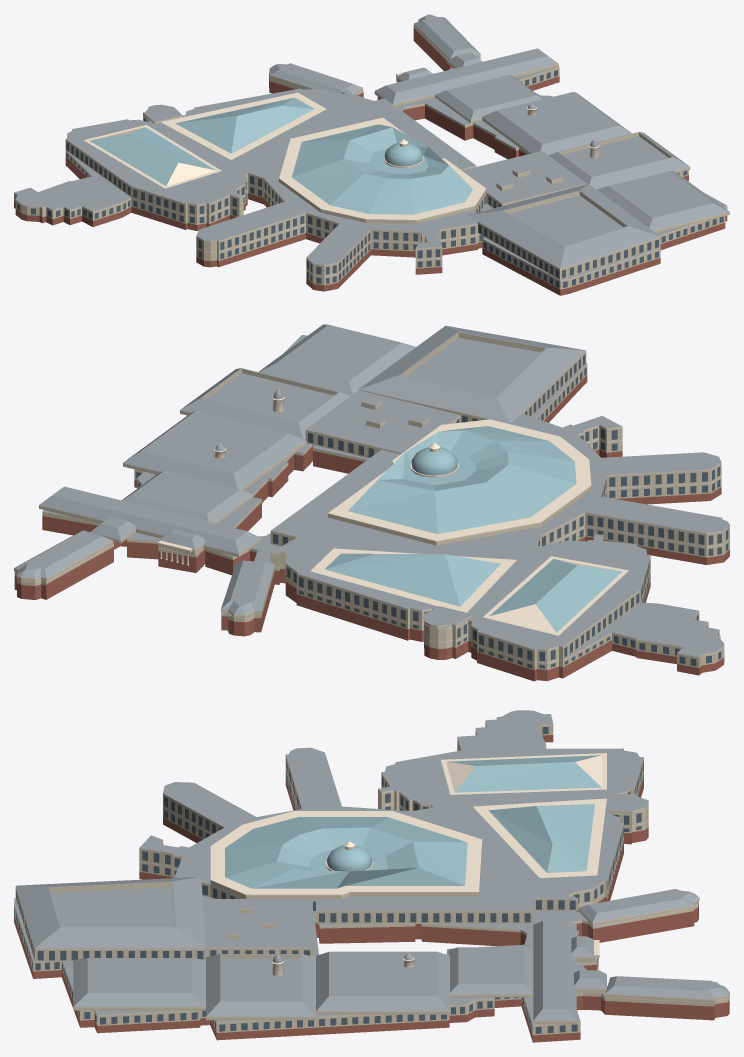
The model's file is nash-gaylord-opryland.glb.
3 renders of one model, top to bottom at view 1: azimuth 30°, elevation 25°; view 2: azimuth 150°, elevation 25°; view 3: azimuth 270°, elevation 25°, orthographic. The views are drawn at different scales.
Visible parts, largest first — view 1: Gaylord Opryland Resort & Convention Center; view 2: Gaylord Opryland Resort & Convention Center; view 3: Gaylord Opryland Resort & Convention Center.
Part boxes in pixels (x1,y1,x2,y2): Gaylord Opryland Resort & Convention Center: [14, 14, 729, 295]; Gaylord Opryland Resort & Convention Center: [14, 324, 729, 681]; Gaylord Opryland Resort & Convention Center: [14, 710, 729, 1042].
Size of the model in its own units: 465 by 46 by 448.
